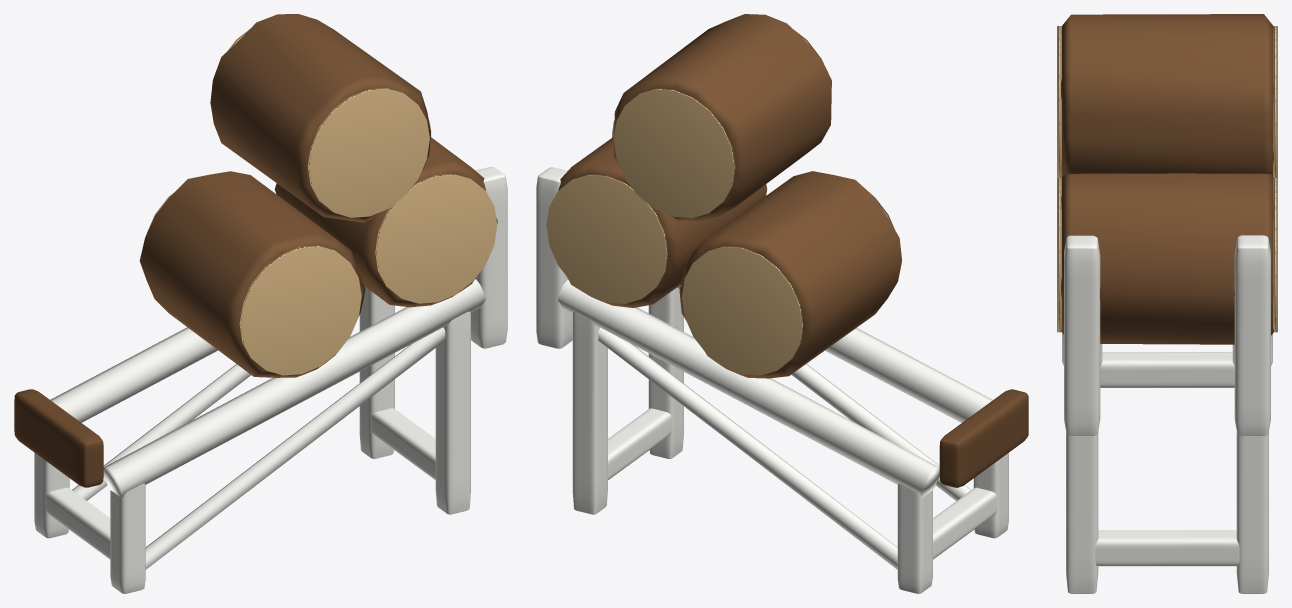
The model's file is LogJamRack.obj.
3 views of the same model, side by side, from view 1: azimuth 30°, elevation 25°; view 2: azimuth 150°, elevation 25°; view 3: azimuth 270°, elevation 25° (orthographic). The views are drawn at different scales.
Parts seen in each view (by area): view 1: Frame, Logs, LogEnds, Peg; view 2: Frame, Logs, LogEnds, Peg; view 3: Logs, Frame, LogEnds.
Part boxes in pixels (<box>): Frame: <box>34,119,507,593</box>; Logs: <box>139,14,497,377</box>; LogEnds: <box>146,29,497,375</box>; Peg: <box>14,389,103,487</box>; Frame: <box>536,120,1008,593</box>; Logs: <box>558,14,901,378</box>; LogEnds: <box>546,29,894,375</box>; Peg: <box>939,389,1028,487</box>; Logs: <box>1061,14,1273,344</box>; Frame: <box>1062,235,1272,593</box>; LogEnds: <box>1057,26,1277,332</box>.
Bounding box in the file's own units: 5.38 × 5.66 × 2.2.
